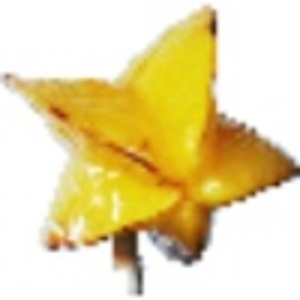carambola: (3, 4, 300, 286)
